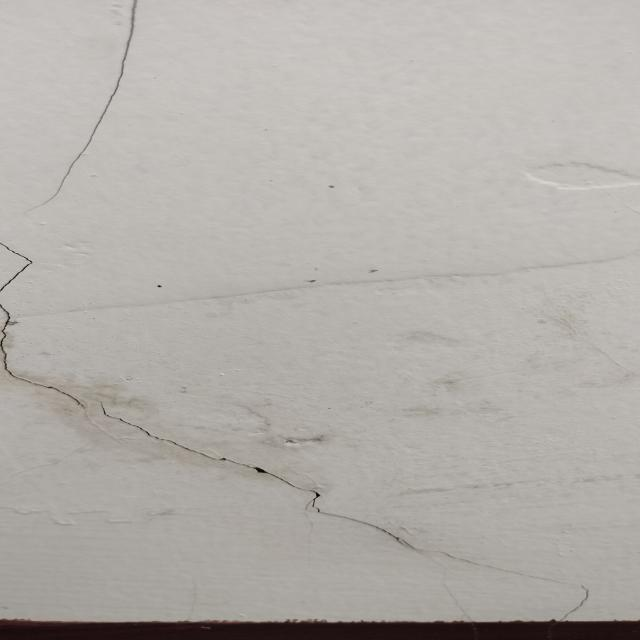Crack: (0, 301, 605, 617), (6, 2, 144, 212)
